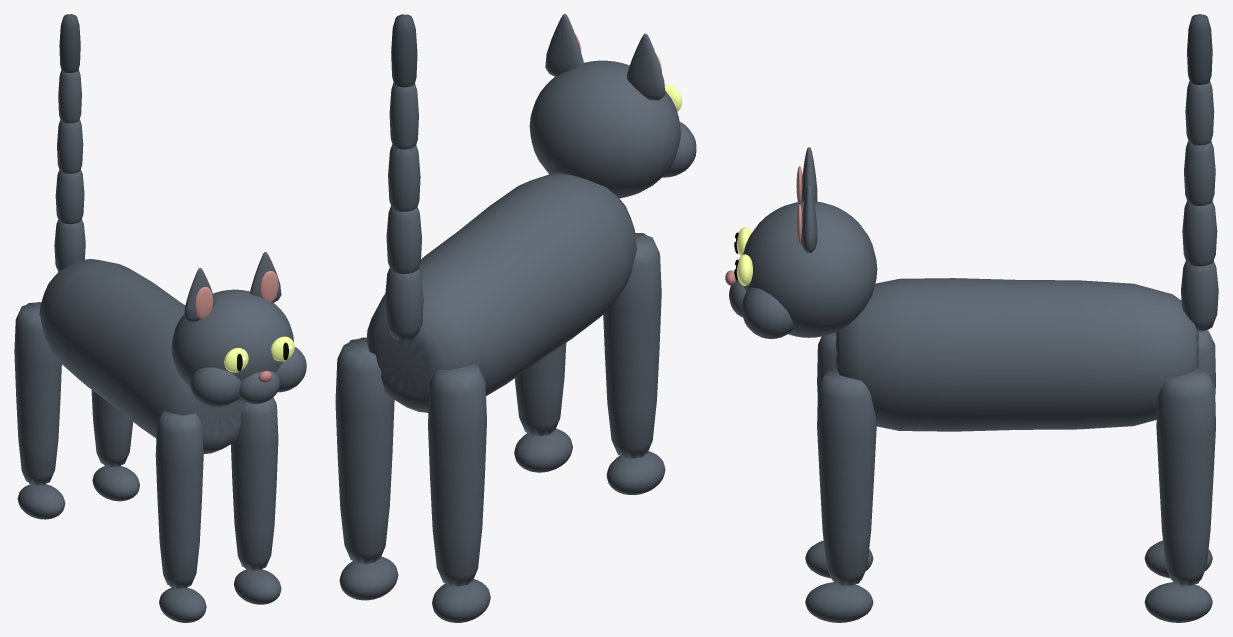
The model's file is beerus-B-9Ce54x.glb.
3 views of the same model, side by side, from view 1: azimuth 30°, elevation 25°; view 2: azimuth 150°, elevation 25°; view 3: azimuth 270°, elevation 25° (orthographic). The views are drawn at different scales.
Visible parts, largest first — view 1: beerus_body_beerus_coat, beerus_head_beerus_coat, beerus_leg0_beerus_coat, beerus_leg2_beerus_coat, beerus_leg1_beerus_coat, beerus_leg3_beerus_coat, beerus_tail1_beerus_coat, beerus_leg1_beerus_paw, beerus_leg3_beerus_paw, beerus_leg0_beerus_paw, beerus_leg2_beerus_paw, beerus_tail0_beerus_coat (+5 smaller); view 2: beerus_body_beerus_coat, beerus_head_beerus_coat, beerus_leg2_beerus_coat, beerus_leg3_beerus_coat, beerus_leg0_beerus_coat, beerus_leg1_beerus_coat, beerus_tail0_beerus_coat, beerus_tail1_beerus_coat, beerus_tail2_beerus_coat, beerus_leg3_beerus_paw, beerus_leg1_beerus_paw, beerus_leg0_beerus_paw (+3 smaller); view 3: beerus_body_beerus_coat, beerus_head_beerus_coat, beerus_leg3_beerus_coat, beerus_leg1_beerus_coat, beerus_leg1_beerus_paw, beerus_leg3_beerus_paw, beerus_tail0_beerus_coat, beerus_tail1_beerus_coat, beerus_tail2_beerus_coat, beerus_tail3_beerus_coat, beerus_tail4_beerus_dark, beerus_leg0_beerus_coat (+4 smaller).
Boxes of the visible parts, bbox=[...] form: beerus_body_beerus_coat: bbox=[39, 259, 245, 454]; beerus_head_beerus_coat: bbox=[171, 252, 306, 407]; beerus_leg0_beerus_coat: bbox=[155, 411, 203, 588]; beerus_leg2_beerus_coat: bbox=[14, 302, 61, 485]; beerus_leg1_beerus_coat: bbox=[231, 397, 278, 570]; beerus_leg3_beerus_coat: bbox=[91, 390, 133, 466]; beerus_tail1_beerus_coat: bbox=[55, 169, 84, 224]; beerus_leg1_beerus_paw: bbox=[234, 569, 281, 604]; beerus_leg3_beerus_paw: bbox=[92, 465, 139, 501]; beerus_leg0_beerus_paw: bbox=[159, 587, 206, 622]; beerus_leg2_beerus_paw: bbox=[17, 484, 65, 519]; beerus_tail0_beerus_coat: bbox=[54, 219, 85, 271]; beerus_body_beerus_coat: bbox=[366, 173, 636, 412]; beerus_head_beerus_coat: bbox=[529, 14, 696, 198]; beerus_leg2_beerus_coat: bbox=[428, 364, 486, 586]; beerus_leg3_beerus_coat: bbox=[335, 337, 394, 563]; beerus_leg0_beerus_coat: bbox=[603, 233, 661, 458]; beerus_leg1_beerus_coat: bbox=[514, 343, 566, 435]; beerus_tail0_beerus_coat: bbox=[385, 267, 423, 340]; beerus_tail1_beerus_coat: bbox=[386, 206, 421, 273]; beerus_tail2_beerus_coat: bbox=[388, 144, 420, 211]; beerus_leg3_beerus_paw: bbox=[339, 556, 398, 600]; beerus_leg1_beerus_paw: bbox=[514, 428, 572, 472]; beerus_leg0_beerus_paw: bbox=[606, 451, 665, 494]; beerus_body_beerus_coat: bbox=[835, 278, 1198, 431]; beerus_head_beerus_coat: bbox=[729, 147, 877, 338]; beerus_leg3_beerus_coat: bbox=[1156, 368, 1215, 585]; beerus_leg1_beerus_coat: bbox=[817, 368, 876, 585]; beerus_leg1_beerus_paw: bbox=[805, 582, 873, 622]; beerus_leg3_beerus_paw: bbox=[1144, 582, 1212, 622]; beerus_tail0_beerus_coat: bbox=[1181, 261, 1218, 331]; beerus_tail1_beerus_coat: bbox=[1182, 201, 1217, 266]; beerus_tail2_beerus_coat: bbox=[1184, 141, 1215, 205]; beerus_tail3_beerus_coat: bbox=[1185, 81, 1214, 145]; beerus_tail4_beerus_dark: bbox=[1187, 14, 1212, 84]; beerus_leg0_beerus_coat: bbox=[817, 332, 836, 392].
Bounding box in the file's own units: 0.1705 × 0.6825 × 0.5235.
